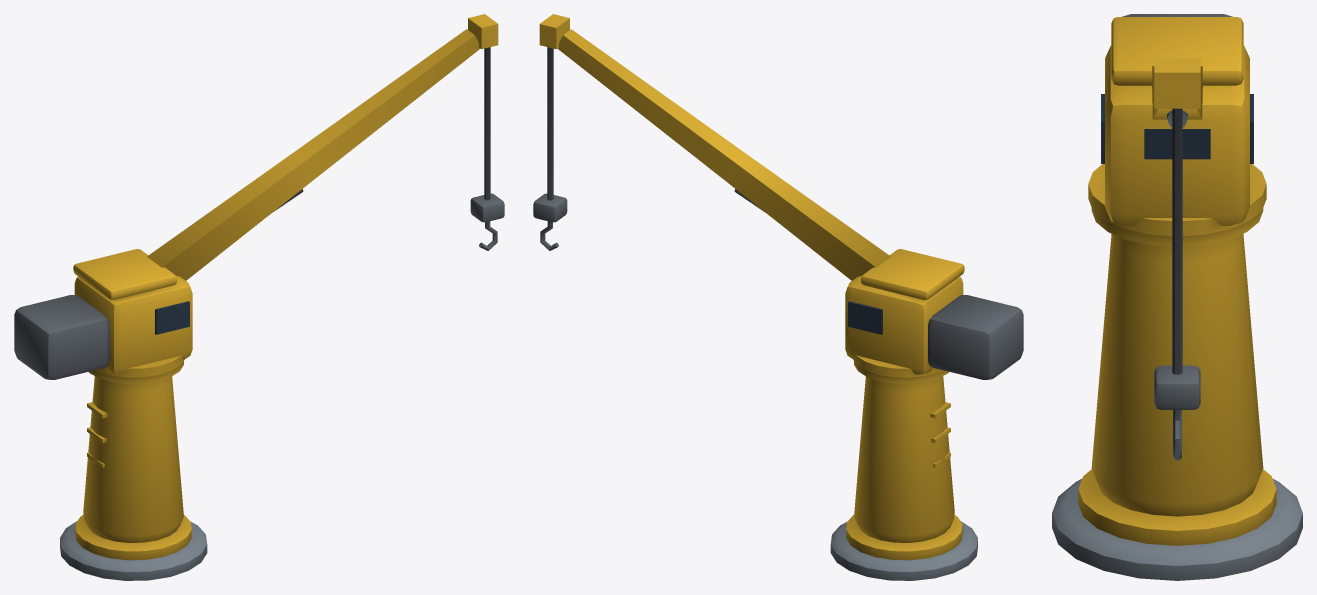
File: cargo-crane.glb
3 views of the same model, side by side, from view 1: azimuth 30°, elevation 25°; view 2: azimuth 150°, elevation 25°; view 3: azimuth 270°, elevation 25° (orthographic). The views are drawn at different scales.
Visible parts, largest first — view 1: slew, pedestal, slewSteel, base, slewWindow; view 2: slew, pedestal, slewSteel, base, slewWindow; view 3: pedestal, slew, base, slewSteel, slewWindow.
Part boxes in pixels (left/top/right/bottom): slew: left=73, top=14, right=498, bottom=377; pedestal: left=75, top=361, right=191, bottom=560; slewSteel: left=14, top=47, right=504, bottom=379; base: left=60, top=521, right=207, bottom=580; slewWindow: left=155, top=301, right=189, bottom=334; slew: left=539, top=14, right=964, bottom=377; pedestal: left=846, top=361, right=962, bottom=560; slewSteel: left=533, top=47, right=1023, bottom=379; base: left=830, top=521, right=977, bottom=580; slewWindow: left=848, top=301, right=882, bottom=334; pedestal: left=1078, top=208, right=1276, bottom=545; slew: left=1088, top=17, right=1266, bottom=235; base: left=1052, top=479, right=1302, bottom=580; slewSteel: left=1122, top=14, right=1232, bottom=460; slewWindow: left=1101, top=94, right=1253, bottom=163.
Bounding box in the file's own units: 2.79 × 2.51 × 0.76.
